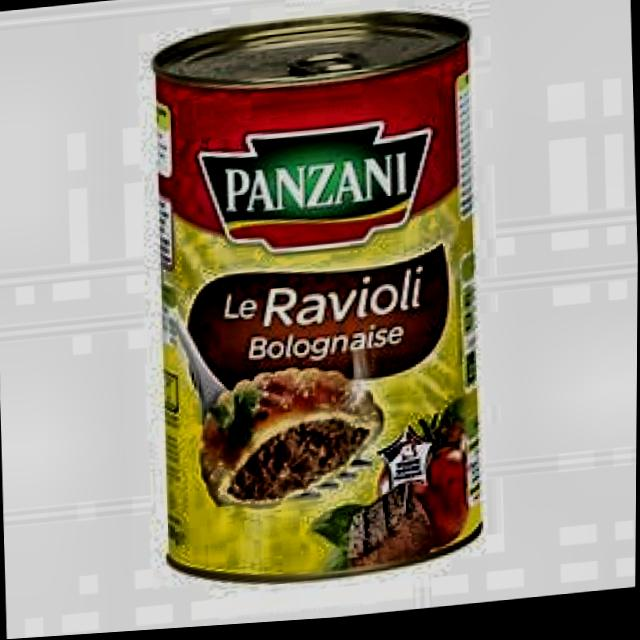Cans: (124, 0, 485, 629)
